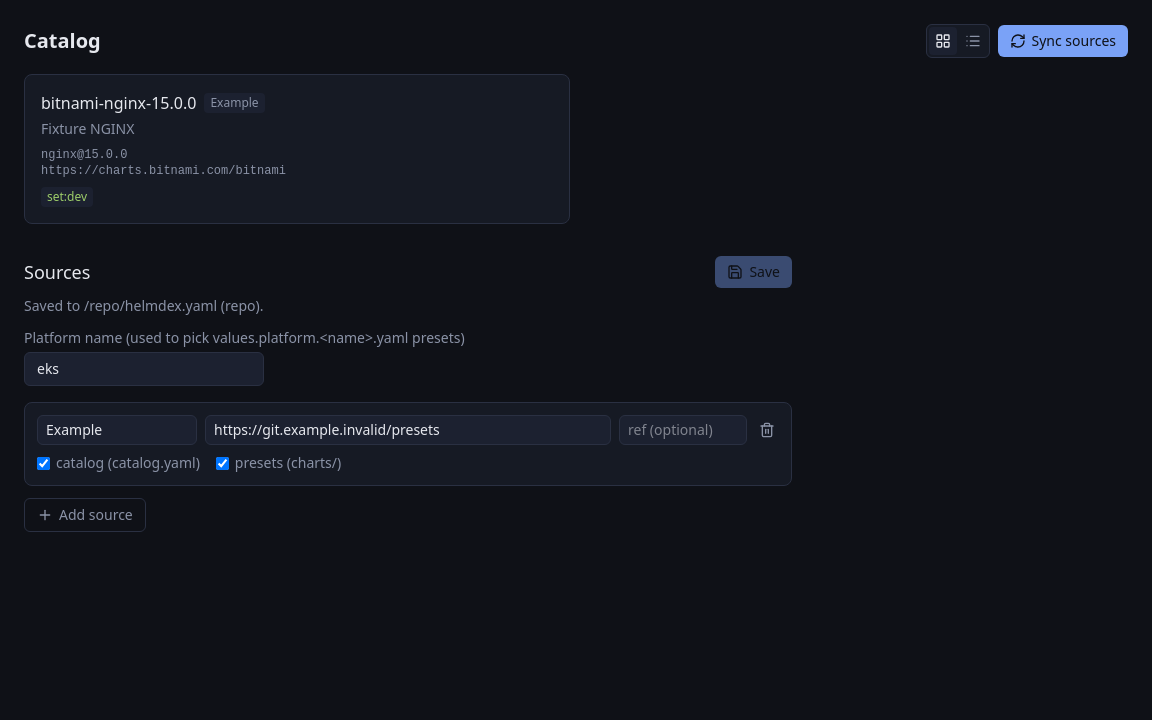
Test case: Catalog page › surfaces a failed sync
Expected: the text "bitnami-nginx-15.0.0" is shown, [41,91,196,115]
Click the button "Sync sources".
click(1063, 41)  # box [998,25,1128,57]
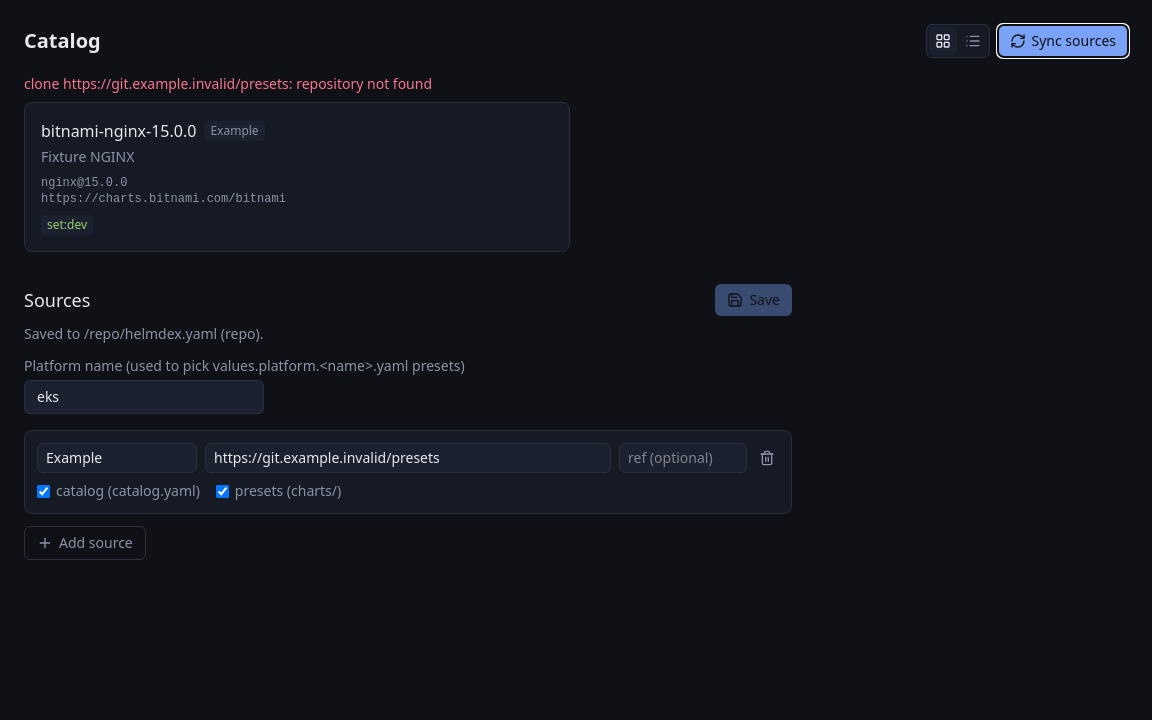
Expected: the text "repository not found" is shown, [24,74,432,93]
